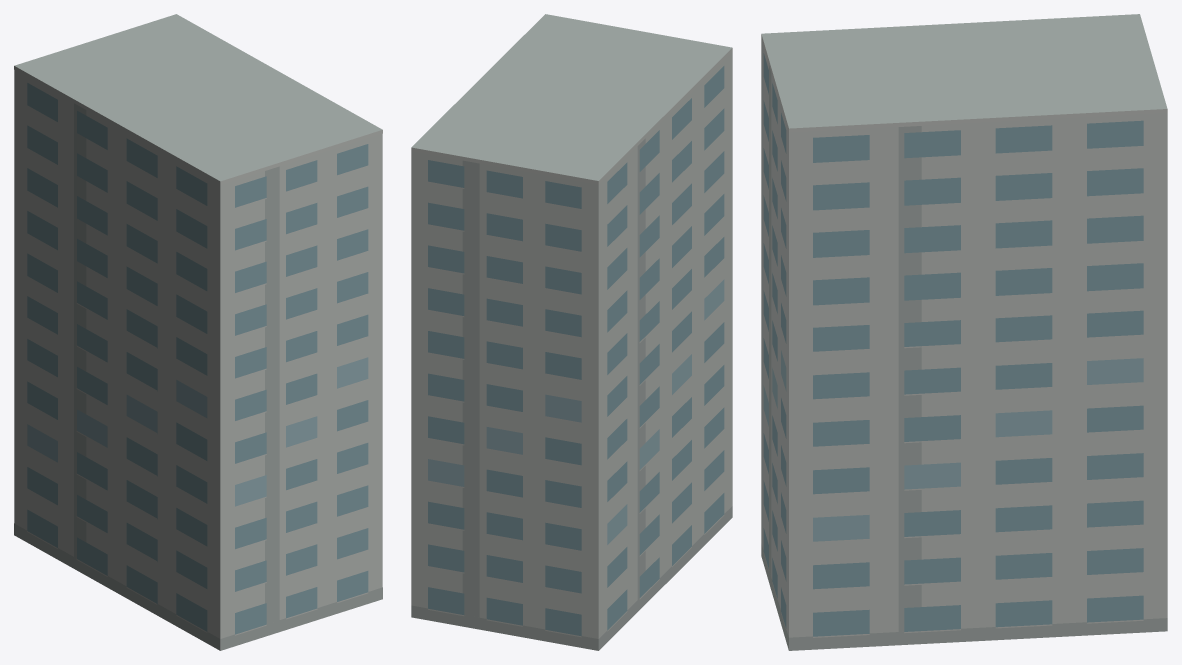
The model's file is residential-006622d1-3646-4e80-8c6d-6eeac858dff8.glb.
3 renders of one model, left to right at view 1: azimuth 30°, elevation 25°; view 2: azimuth 150°, elevation 25°; view 3: azimuth 270°, elevation 25°, orthographic. The views are drawn at different scales.
Parts seen in each view (by area): view 1: residential-006622d1-3646-4e80-8c6d-6eeac858dff8.tmp; view 2: residential-006622d1-3646-4e80-8c6d-6eeac858dff8.tmp; view 3: residential-006622d1-3646-4e80-8c6d-6eeac858dff8.tmp.
Part boxes in pixels (box(x1,y1,x2,y2)): residential-006622d1-3646-4e80-8c6d-6eeac858dff8.tmp: box(14, 14, 382, 650); residential-006622d1-3646-4e80-8c6d-6eeac858dff8.tmp: box(411, 14, 732, 650); residential-006622d1-3646-4e80-8c6d-6eeac858dff8.tmp: box(761, 14, 1167, 650).
Bounding box in the file's own units: 14.11 × 30 × 21.15.
